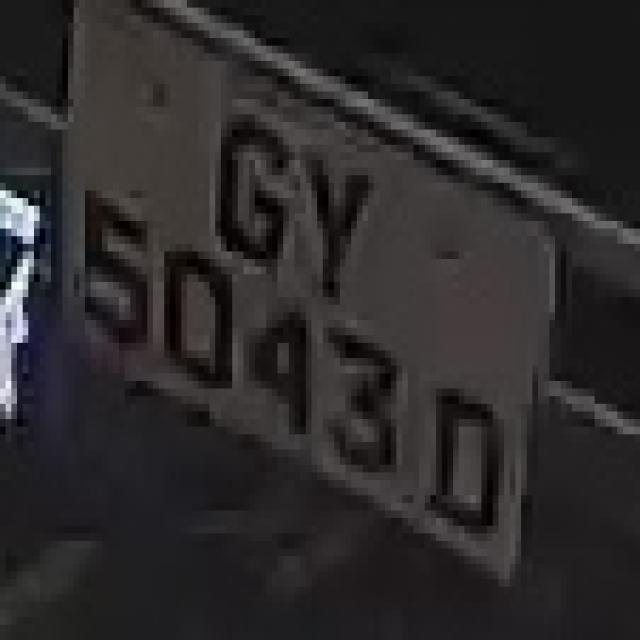0: (153, 206, 238, 434)
3: (323, 297, 402, 503)
4: (232, 266, 323, 464)
5: (62, 145, 153, 381)
D: (413, 358, 510, 549)
G: (215, 91, 295, 305)
Y: (289, 130, 374, 297)
